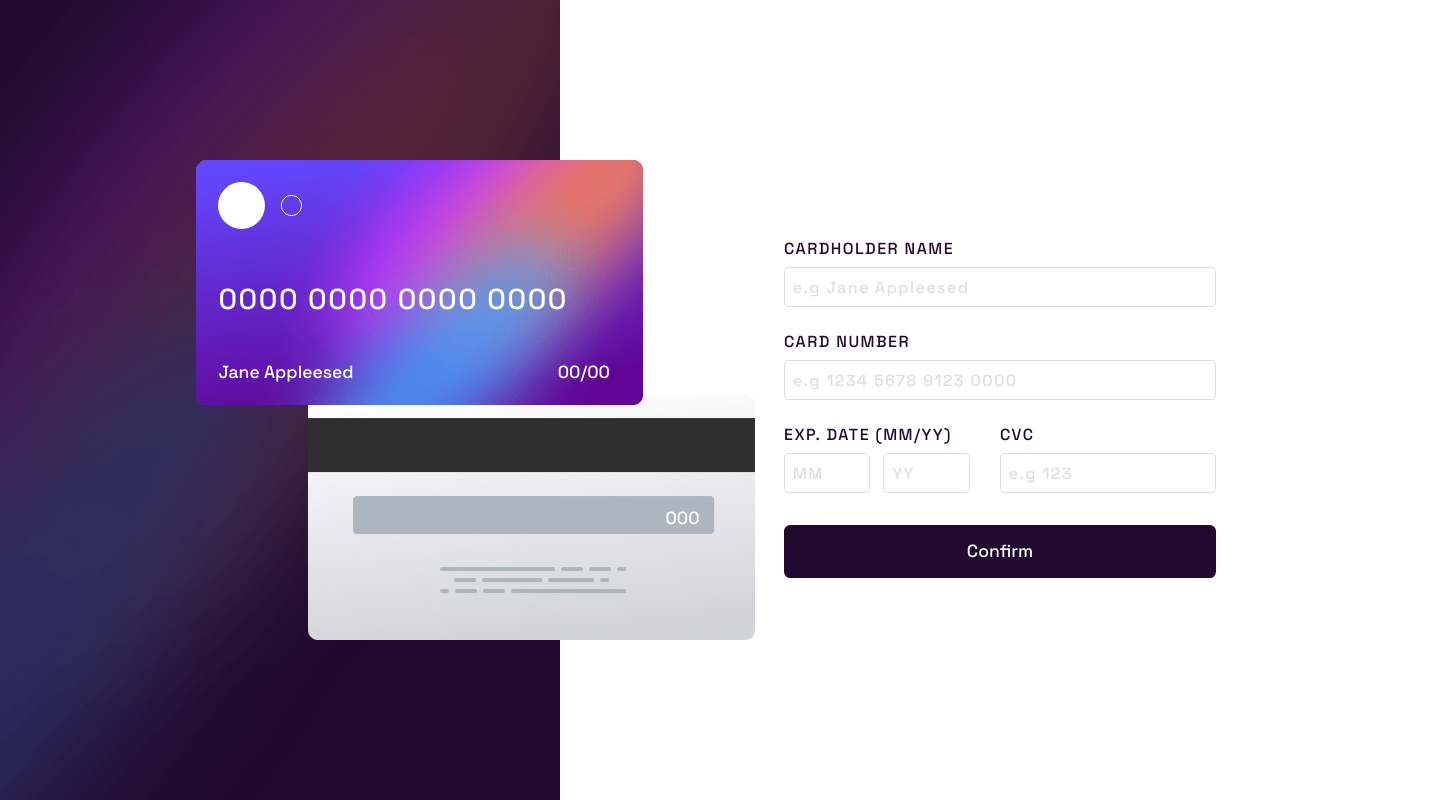
Scenario: Test month input › test MONTH input should show error (Cannot be blank)
Write input card input
Type "Jane Appleased" into the field with placeholder "e.g Jane Appleesed" at coordinates (1000, 287), box [784,267,1216,307]
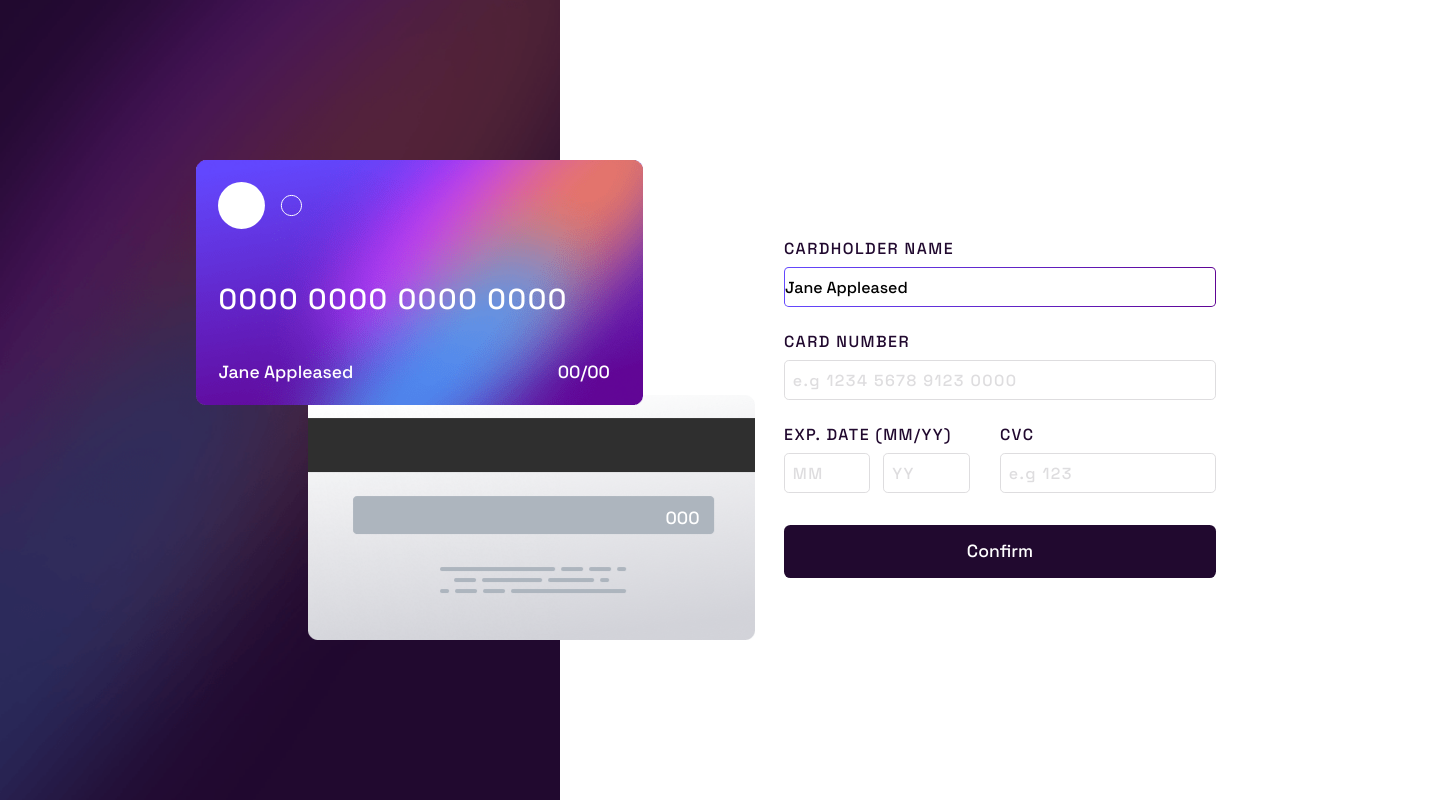
Write input Card number
Type "1234 5678 9123 0000" into the field with placeholder "e.g 1234 5678 9123 0000" at coordinates (1000, 380), box [784,360,1216,400]
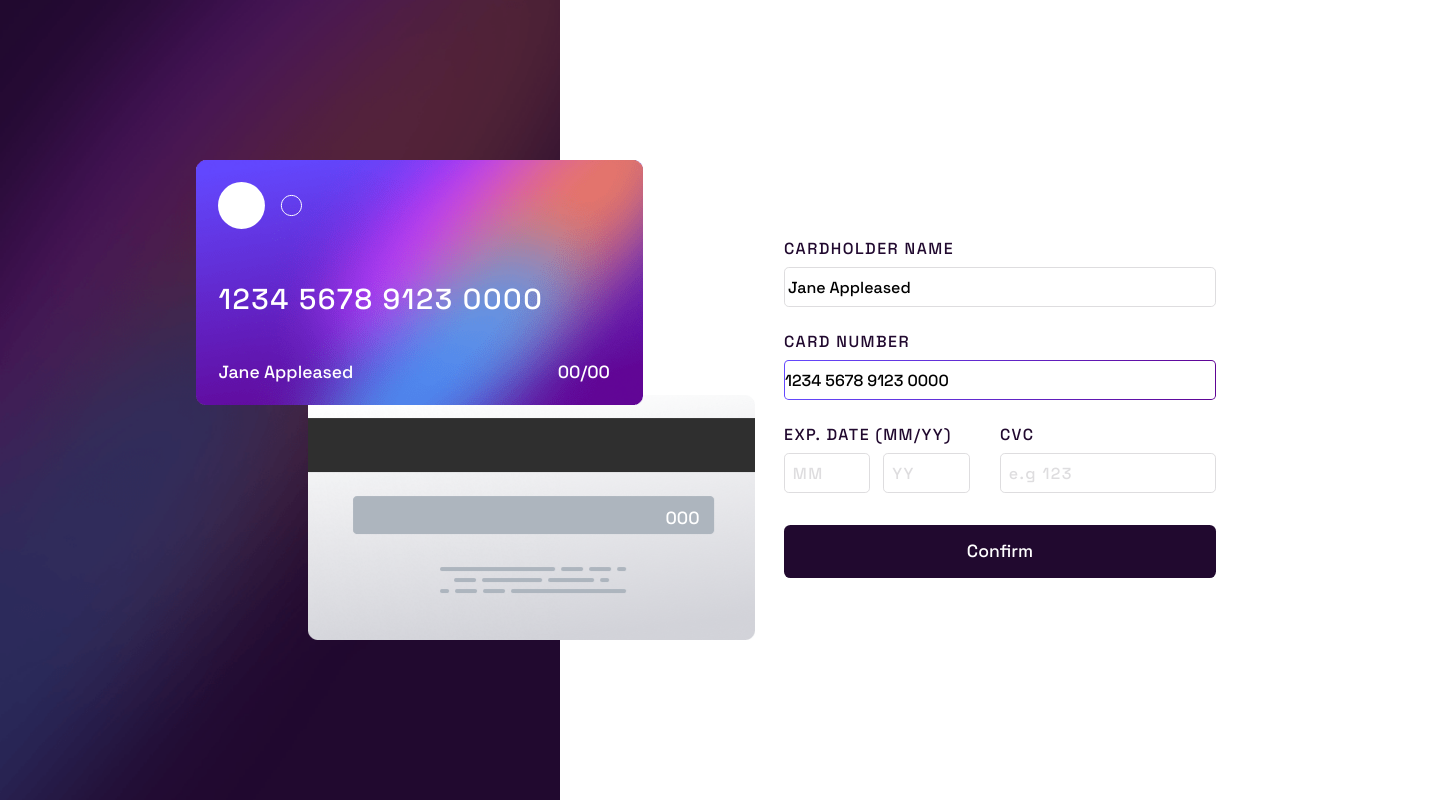
Write input YY
Type "24" into the field with placeholder "YY" at coordinates (926, 473), box [883,453,969,493]
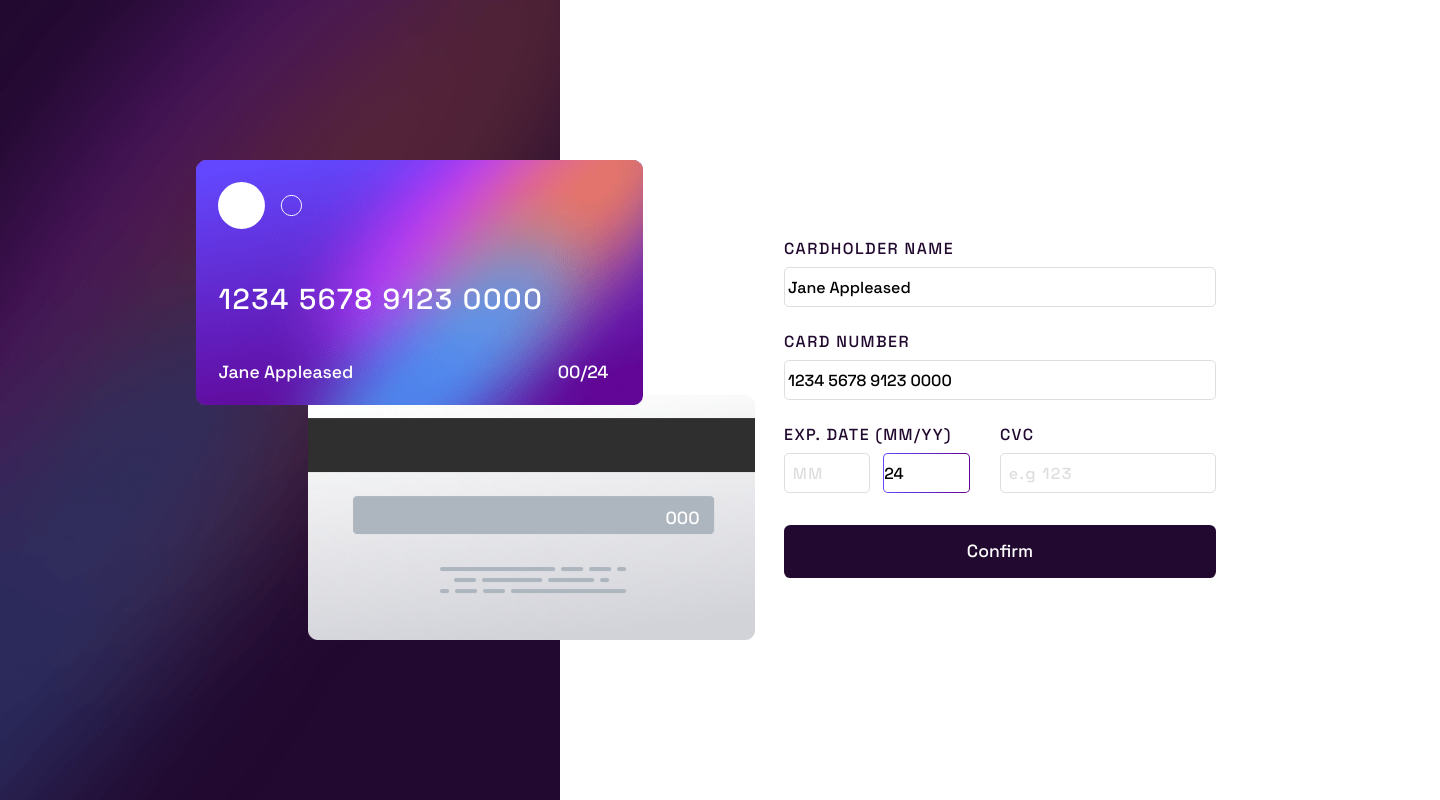
Write input CVC
Type "123" into the field with placeholder "e.g 123" at coordinates (1108, 473), box [1000,453,1216,493]
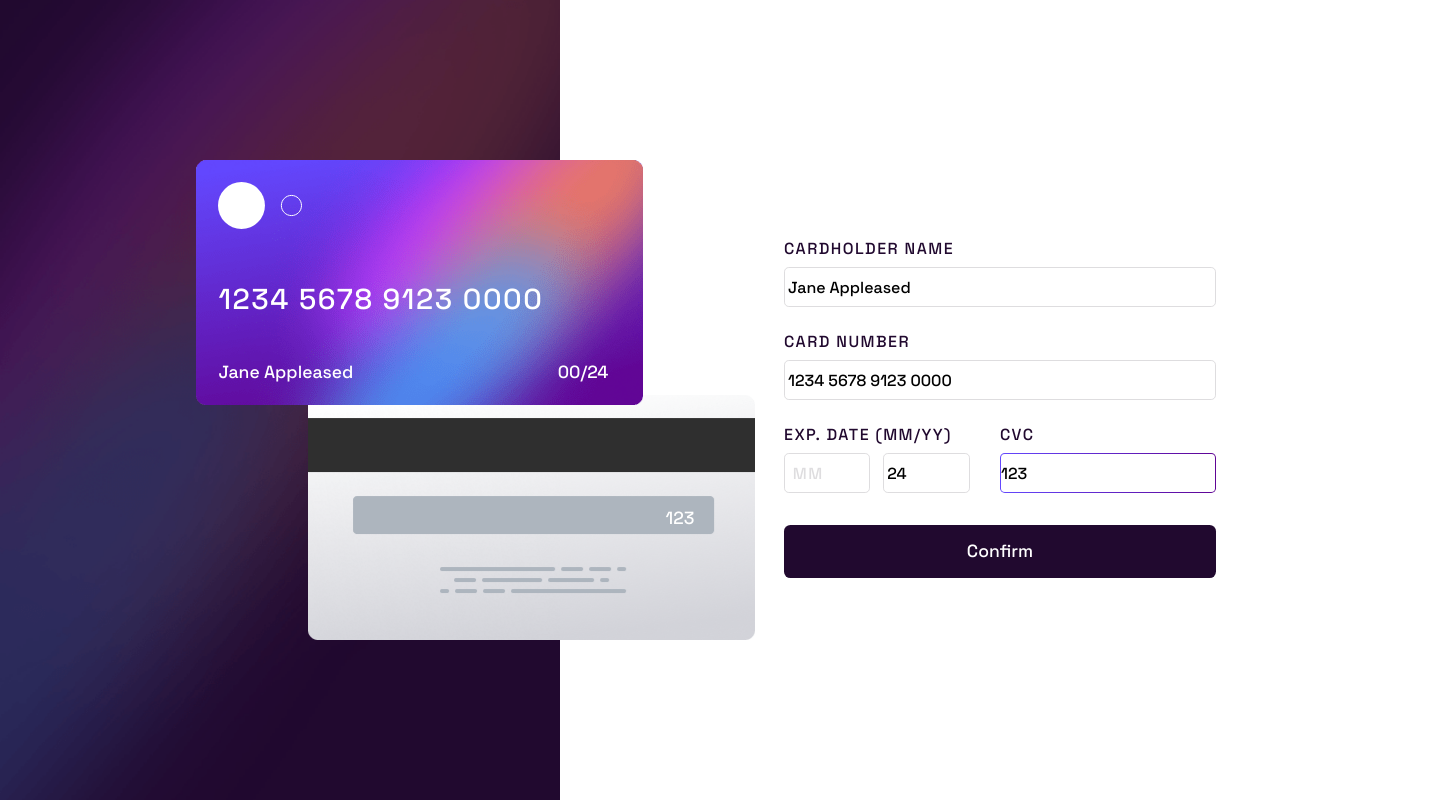
Click the button with class "confirmation-btn" at coordinates (1000, 552), box [784,525,1216,578]
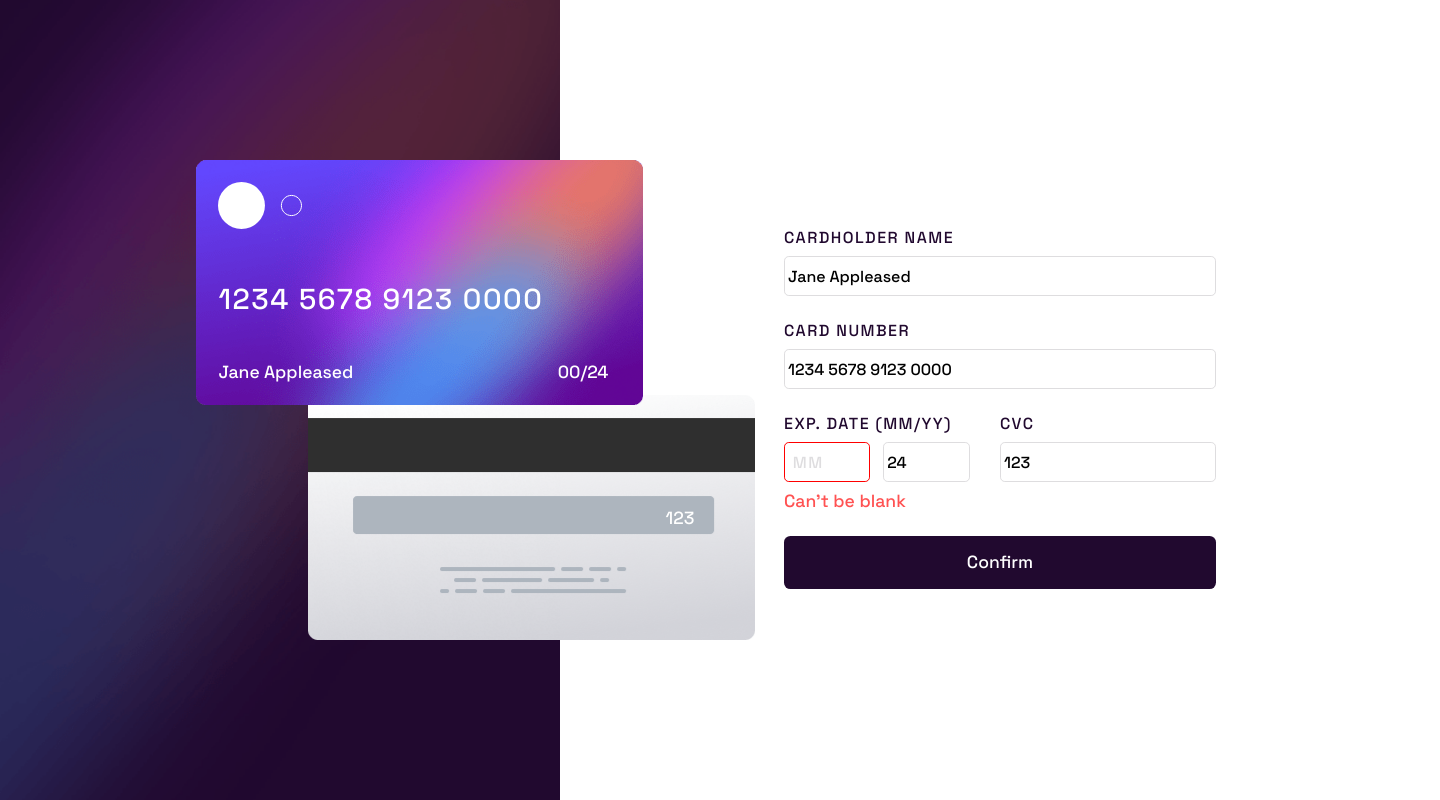
Now the text "Can't be blank" is shown, box [784,490,906,512]
